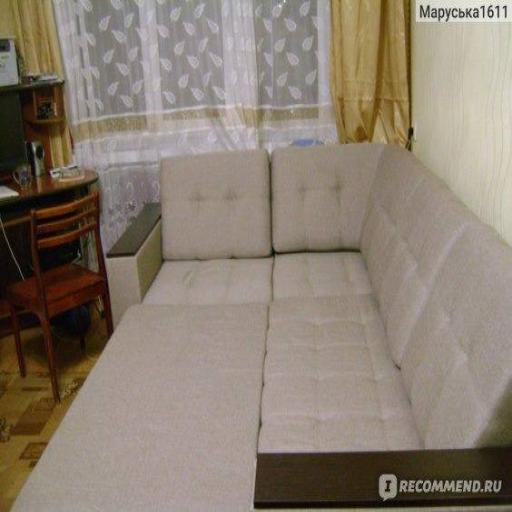bus: (8, 194, 112, 401)
sidewalk: (15, 145, 511, 510)
stroller: (0, 171, 98, 336)
